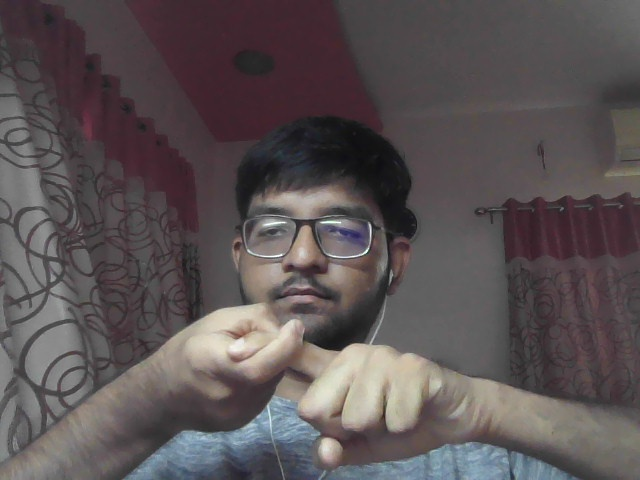મિત્ર: (85, 293, 502, 474)
